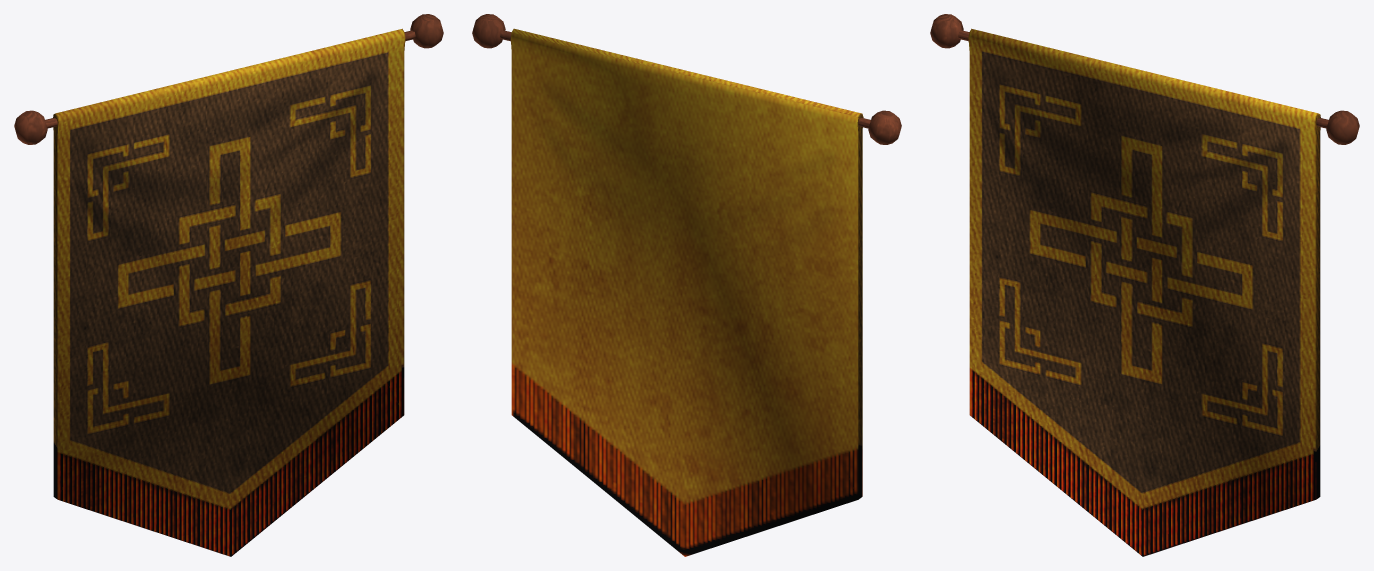
Rendered from sb_obj_indoor017_Tapestry03.fbx.
3 renders of one model, left to right at view 1: azimuth 30°, elevation 25°; view 2: azimuth 150°, elevation 25°; view 3: azimuth 330°, elevation 25°, orthographic.
Visible parts, largest first — view 1: sb_obj_indoor017_Tapestry03; view 2: sb_obj_indoor017_Tapestry03; view 3: sb_obj_indoor017_Tapestry03.
Part boxes in pixels (x1,y1,x2,y2): sb_obj_indoor017_Tapestry03: (14,14,443,556); sb_obj_indoor017_Tapestry03: (472,14,901,556); sb_obj_indoor017_Tapestry03: (930,14,1359,556).
Size of the model in its own units: 1.23 by 1.35 by 0.0869.
